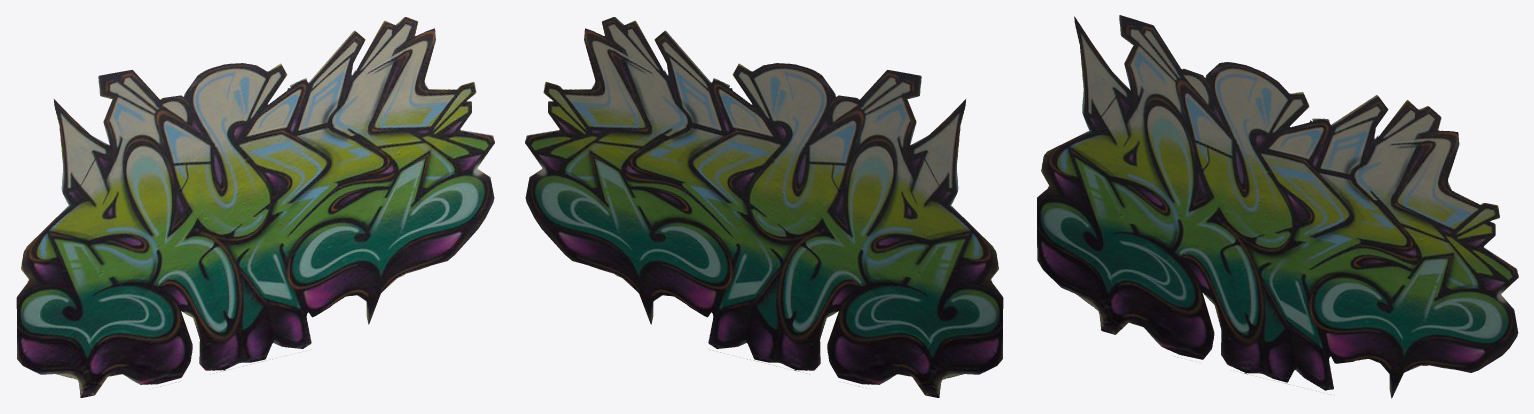
The model's file is JianKongJieDao_01_tuya_01.FBX.
3 renders of one model, left to right at view 1: azimuth 30°, elevation 25°; view 2: azimuth 150°, elevation 25°; view 3: azimuth 330°, elevation 25°, orthographic.
Visible parts, largest first — view 1: JianKongJieDao_01_tuya_01; view 2: JianKongJieDao_01_tuya_01; view 3: JianKongJieDao_01_tuya_01.
Part boxes in pixels (box(x1,y1,x2,y2)): JianKongJieDao_01_tuya_01: box(16, 17, 494, 397); JianKongJieDao_01_tuya_01: box(525, 17, 1003, 397); JianKongJieDao_01_tuya_01: box(1037, 15, 1518, 398).
Bounding box in the file's own units: 784 × 507 × 8.25e-05.
